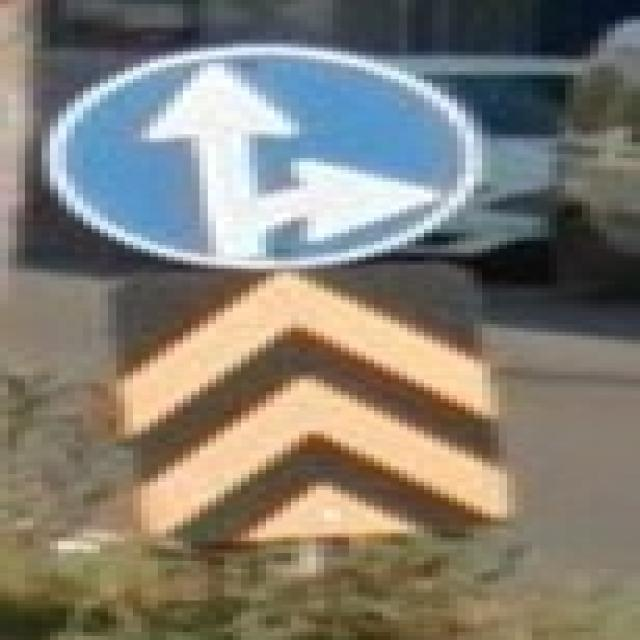Straight or Right: (47, 48, 462, 262)
